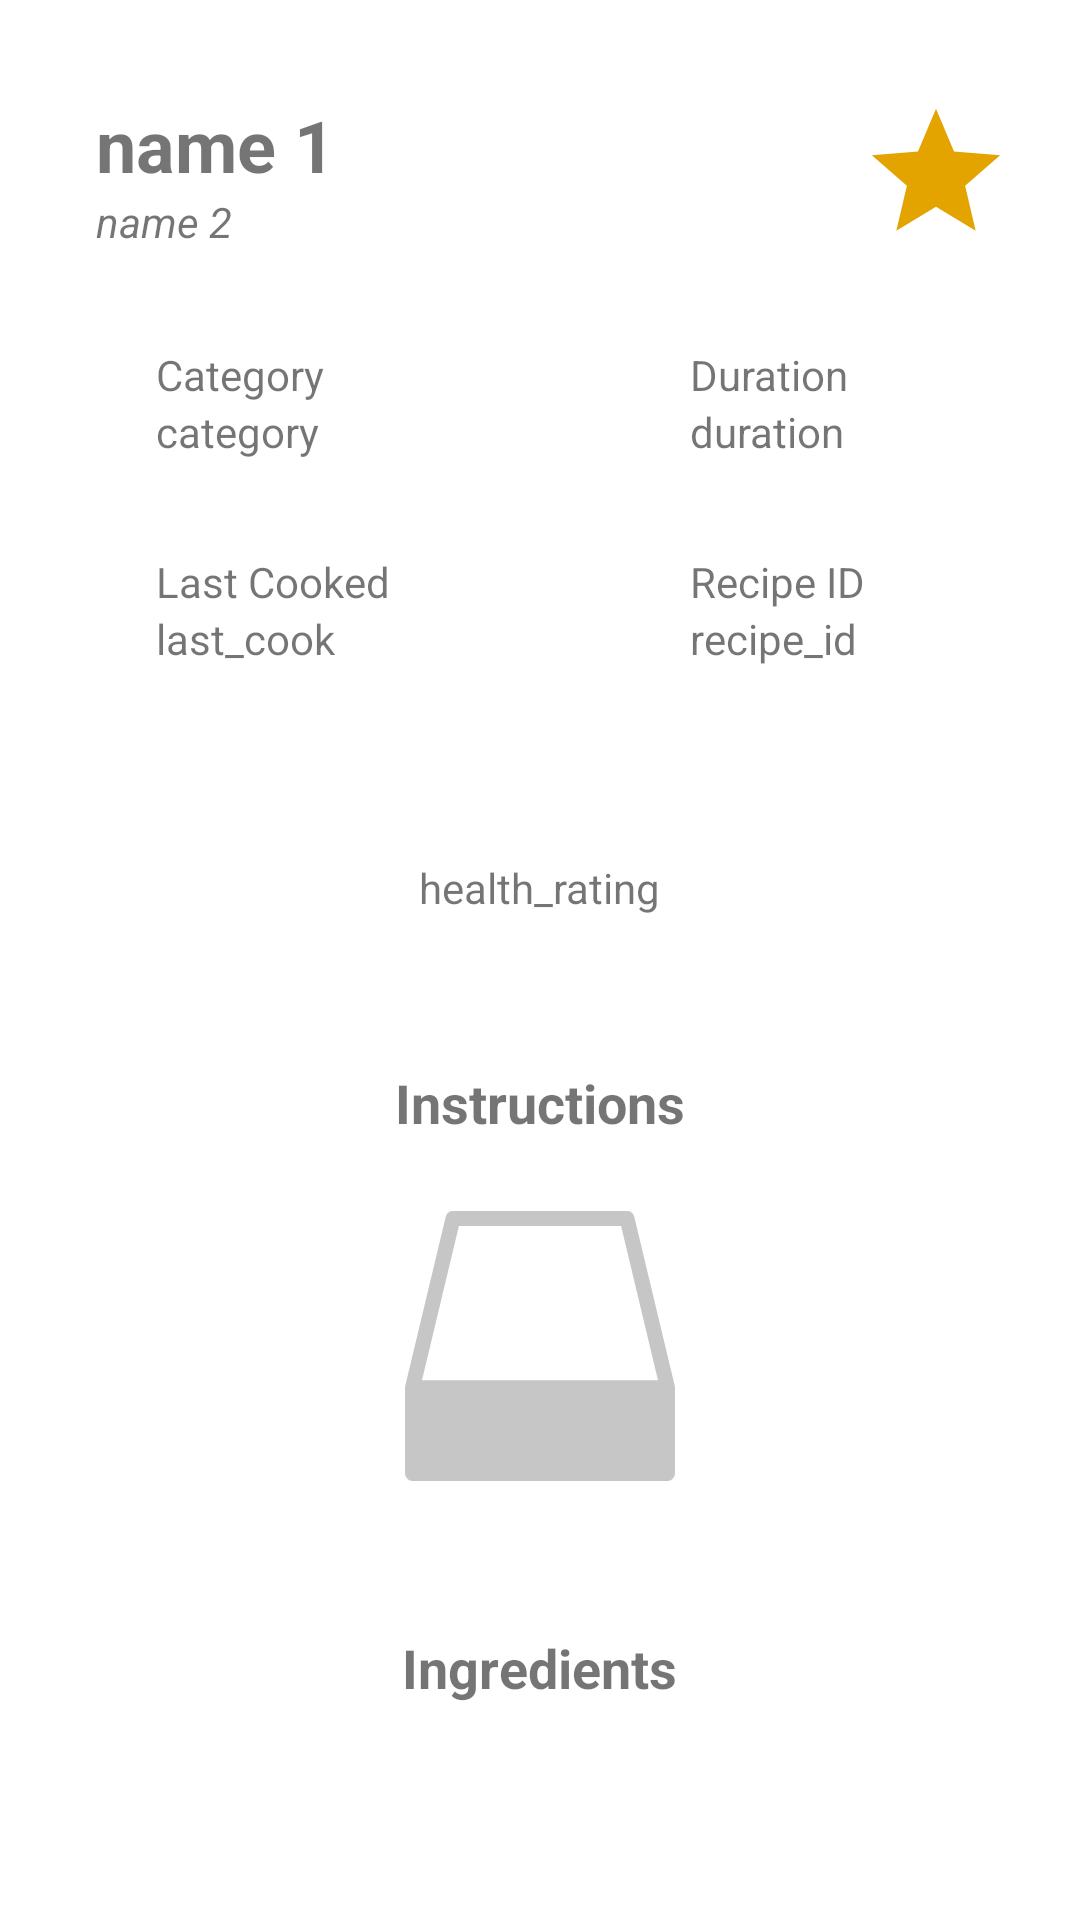

Screen size 1080px×1920px. Icon name, then its center in pixels as [x,y]:
empty: [540,1346]
favourite: [936,170]
